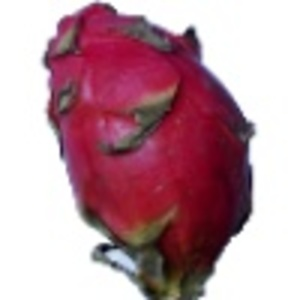pitaia: (43, 1, 260, 300)
